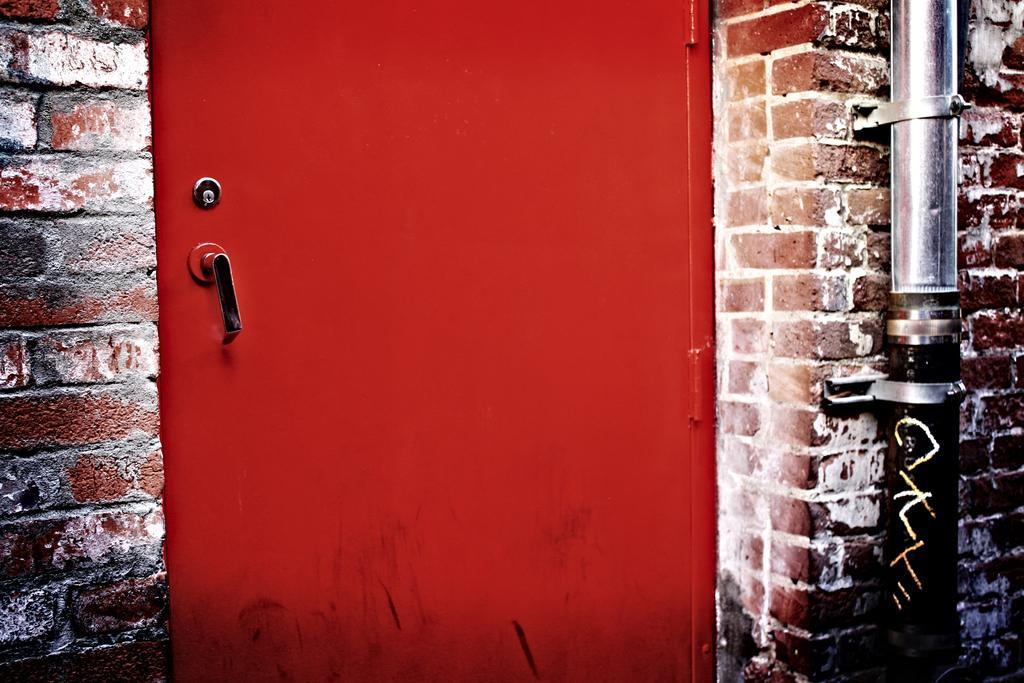door: (168, 0, 698, 670)
handle: (196, 246, 246, 358)
